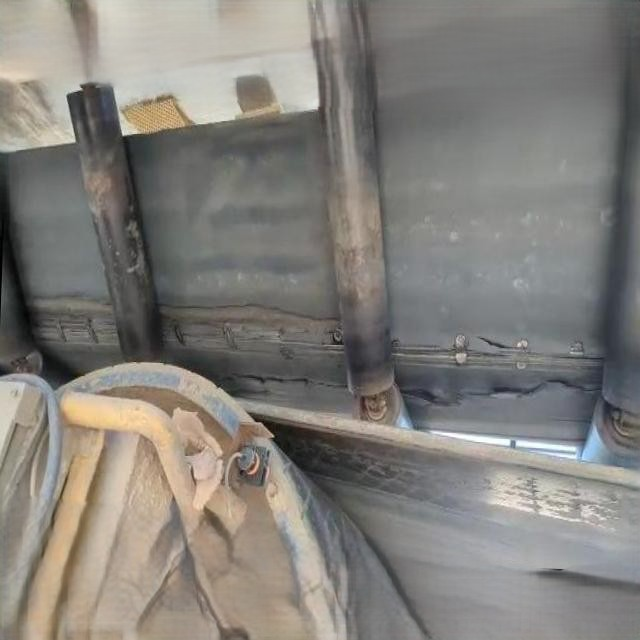Tear: (147, 285, 356, 359), (388, 328, 610, 379), (20, 282, 120, 346), (395, 378, 608, 408)
